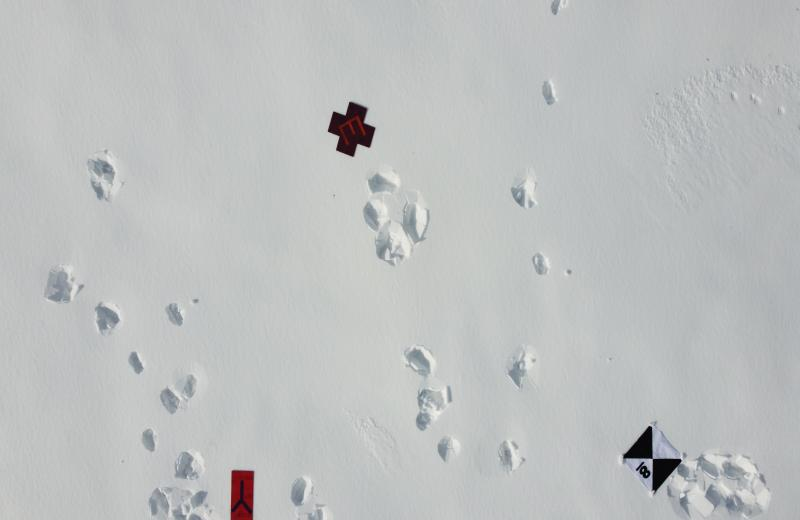Cross: (326, 98, 379, 162)
Rectangle: (228, 468, 255, 520)
